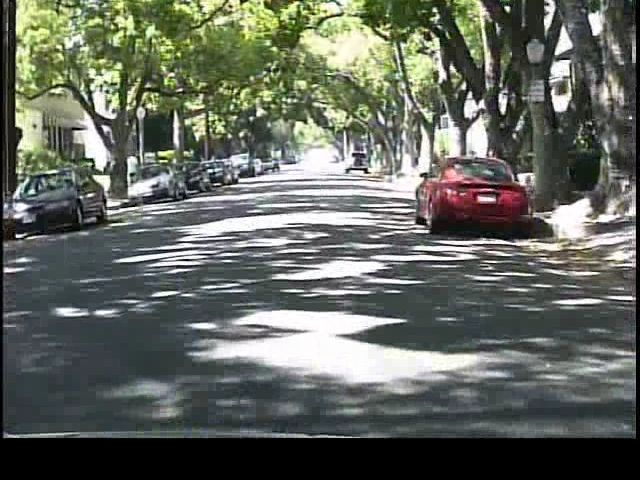person: (124, 148, 146, 194)
